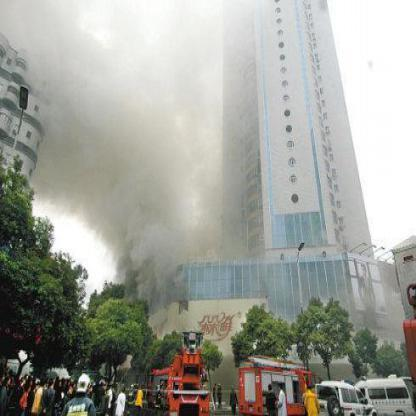smoke: (43, 79, 208, 287), (209, 53, 256, 265), (0, 0, 94, 79)
